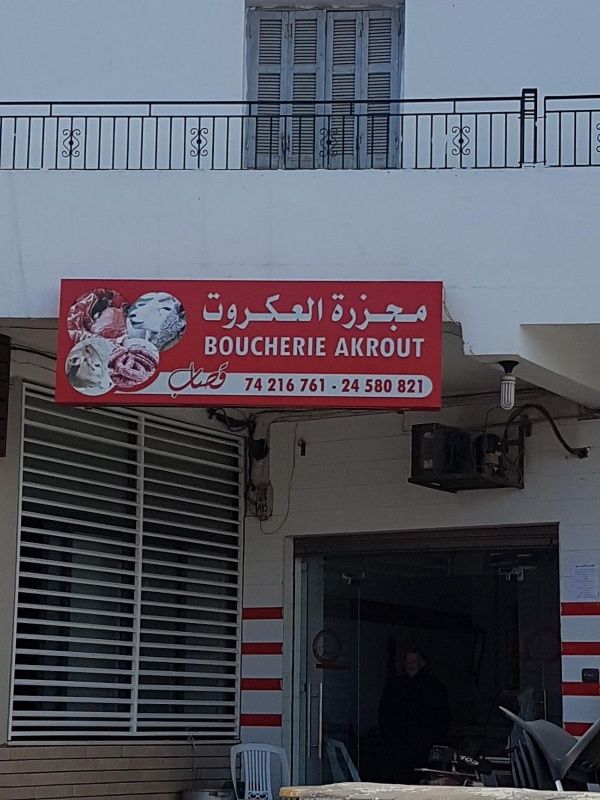text: (337, 292, 352, 335), (353, 292, 368, 335), (369, 292, 384, 335), (385, 292, 400, 335), (401, 292, 416, 335), (209, 292, 224, 332), (225, 292, 240, 332), (241, 292, 256, 332), (257, 292, 272, 332), (273, 292, 288, 332), (289, 292, 304, 332), (305, 292, 320, 332), (177, 361, 192, 399), (193, 361, 208, 399), (209, 361, 224, 399), (417, 292, 429, 335), (209, 335, 224, 359), (225, 335, 240, 359), (241, 335, 256, 359), (257, 335, 272, 359), (273, 335, 288, 359), (289, 335, 304, 359), (305, 335, 320, 359), (337, 336, 352, 359), (353, 336, 368, 359), (369, 336, 384, 359), (385, 336, 400, 359), (401, 336, 416, 359), (169, 361, 176, 399), (417, 336, 428, 359), (202, 292, 208, 332), (401, 379, 416, 395), (305, 378, 320, 393), (273, 377, 288, 392), (465, 754, 481, 768), (331, 292, 336, 335), (369, 379, 384, 393), (244, 377, 256, 392), (321, 335, 328, 359), (225, 361, 229, 399), (342, 378, 352, 393), (353, 378, 361, 393), (321, 292, 324, 332), (385, 379, 393, 393), (417, 379, 423, 395), (204, 335, 208, 359), (257, 377, 263, 392), (289, 377, 295, 392), (321, 378, 325, 393), (268, 377, 272, 392), (301, 378, 304, 393), (365, 379, 368, 393), (398, 379, 400, 395), (462, 754, 464, 768), (332, 385, 336, 389), (337, 385, 338, 389)
